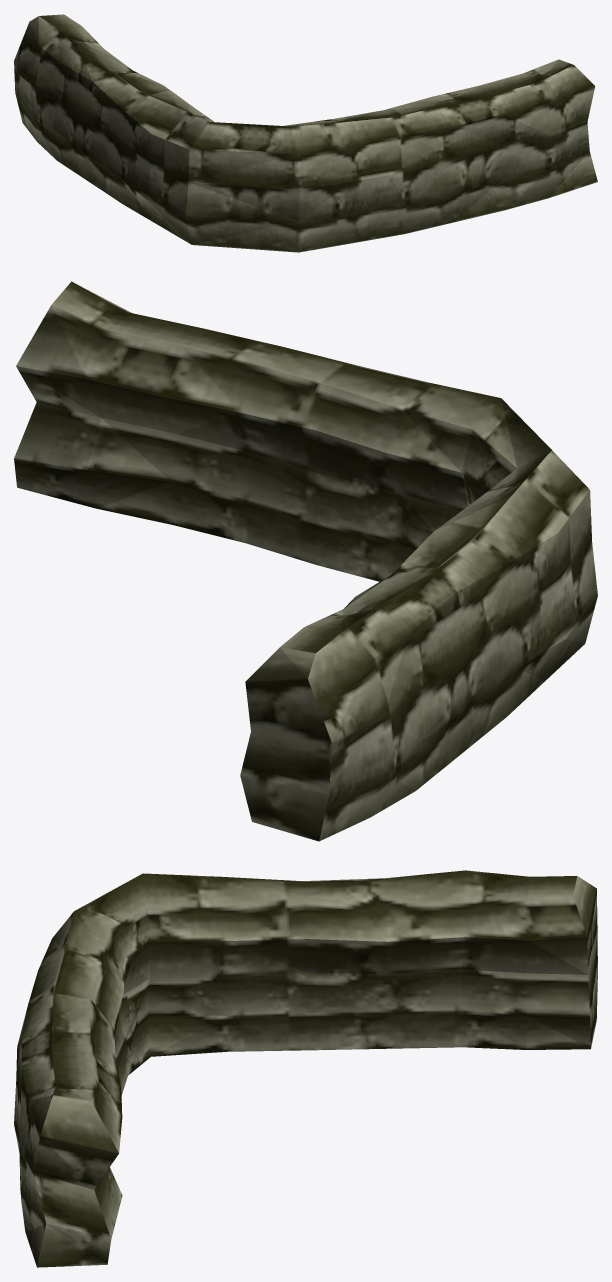
File: SandbagWall02.obj
3 renders of one model, top to bottom at view 1: azimuth 30°, elevation 25°; view 2: azimuth 150°, elevation 25°; view 3: azimuth 270°, elevation 25°, orthographic. The views are drawn at different scales.
Parts seen in each view (by area): view 1: SandbagWall01; view 2: SandbagWall01; view 3: SandbagWall01.
Part boxes in pixels (x1,y1,x2,y2): SandbagWall01: (14, 14, 597, 252); SandbagWall01: (14, 281, 597, 841); SandbagWall01: (14, 870, 597, 1267).
Size of the model in its own units: 5.9 by 1.71 by 5.63.
